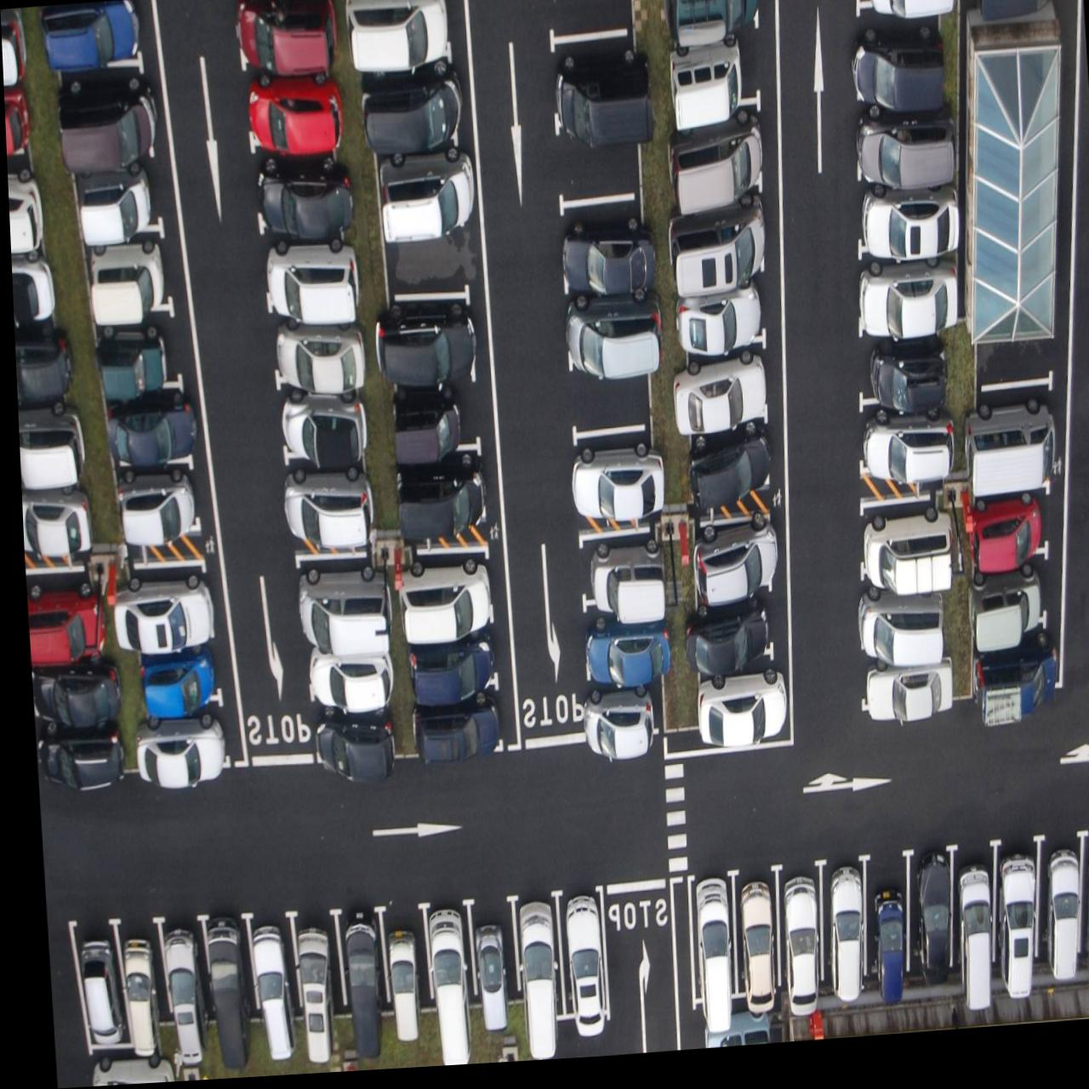cars: (669, 94, 767, 204), (669, 13, 766, 114), (675, 185, 763, 291), (853, 325, 951, 419), (859, 173, 958, 264), (859, 254, 958, 342), (557, 194, 646, 291), (861, 16, 945, 116), (685, 876, 744, 1016), (93, 304, 178, 401), (988, 837, 1046, 976), (265, 226, 347, 323), (566, 293, 657, 380), (860, 396, 947, 487), (71, 911, 124, 1060), (109, 457, 199, 544), (124, 563, 213, 650), (88, 218, 166, 317), (47, 0, 137, 85), (861, 568, 943, 661), (684, 343, 765, 436), (394, 374, 483, 458), (861, 502, 953, 583), (65, 72, 141, 170), (685, 516, 769, 604), (158, 905, 210, 1046), (549, 27, 637, 110), (366, 64, 457, 144), (77, 152, 152, 247), (1037, 834, 1089, 969), (400, 550, 498, 621), (820, 850, 875, 976), (733, 867, 784, 1002), (377, 143, 470, 217), (398, 461, 491, 535), (577, 431, 656, 518), (564, 880, 616, 1012), (966, 485, 1055, 562), (969, 546, 1054, 626), (970, 388, 1061, 462), (243, 64, 324, 147), (197, 914, 251, 1037), (108, 380, 188, 463), (386, 304, 480, 374), (908, 834, 960, 960), (275, 319, 360, 396), (409, 689, 501, 760), (582, 599, 664, 678), (684, 272, 768, 348), (120, 911, 169, 1040), (284, 464, 364, 543), (865, 847, 915, 973), (139, 640, 220, 716), (304, 550, 375, 636), (247, 920, 301, 1033), (338, 900, 392, 1013), (777, 856, 825, 982), (380, 897, 433, 1010), (426, 887, 479, 1000), (865, 116, 950, 186), (294, 900, 348, 1010), (356, 0, 453, 61), (472, 891, 522, 1006), (580, 531, 657, 605), (860, 655, 945, 722), (576, 679, 664, 743), (316, 703, 396, 773), (968, 633, 1051, 700), (262, 157, 338, 229), (695, 600, 773, 670), (957, 847, 999, 976), (413, 625, 497, 688), (305, 652, 390, 713), (149, 706, 230, 770), (517, 894, 562, 1009), (703, 668, 777, 737), (236, 0, 316, 63), (693, 433, 765, 502), (281, 397, 357, 460), (669, 0, 759, 27), (863, 0, 941, 22), (1081, 821, 1089, 969)
empty: (386, 226, 473, 314), (551, 117, 636, 200), (569, 358, 650, 431), (978, 329, 1072, 390), (546, 0, 634, 43)
